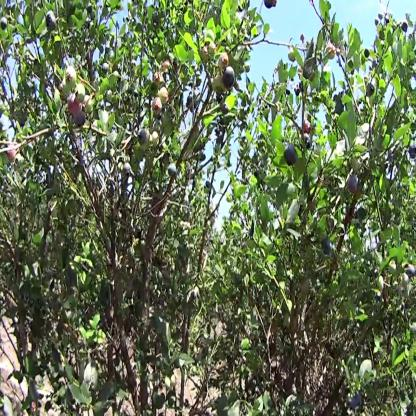intermediate: (219, 53, 229, 70), (154, 98, 164, 115), (326, 44, 337, 59), (8, 144, 16, 161), (154, 73, 164, 86), (304, 118, 312, 132), (164, 60, 172, 71), (210, 46, 216, 58)
mature: (284, 144, 299, 166), (68, 94, 83, 115), (46, 11, 58, 33), (224, 66, 235, 87), (76, 110, 88, 128), (349, 175, 360, 194), (123, 162, 132, 180), (305, 133, 313, 150), (323, 236, 331, 253), (138, 130, 147, 145), (169, 164, 178, 178), (366, 83, 375, 97), (264, 1, 278, 9), (402, 20, 410, 33), (1, 17, 8, 31), (410, 143, 416, 159)
young: (66, 67, 77, 89), (214, 75, 225, 97), (76, 83, 87, 103), (60, 81, 70, 101), (160, 88, 171, 106), (154, 71, 164, 86), (152, 131, 160, 147), (15, 154, 23, 170), (203, 47, 210, 64), (289, 50, 298, 62)
